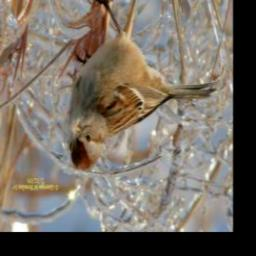Sparrow: (63, 0, 220, 175)
